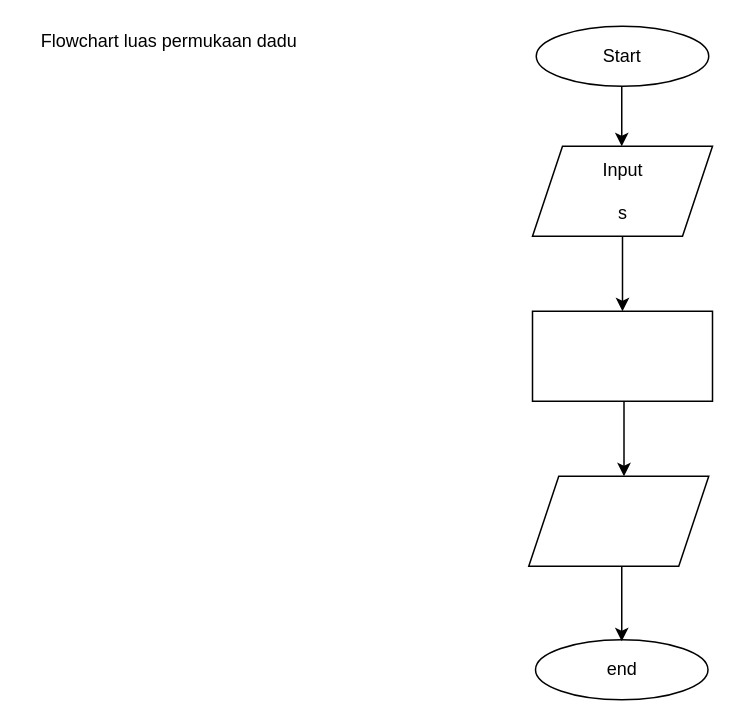
This 738x726 diagram has some shape labels left out. Each missing label, with the box of its shape:
Luas = 6 x s x s: (531, 310, 712, 401)
Output Luas: (527, 475, 709, 566)
